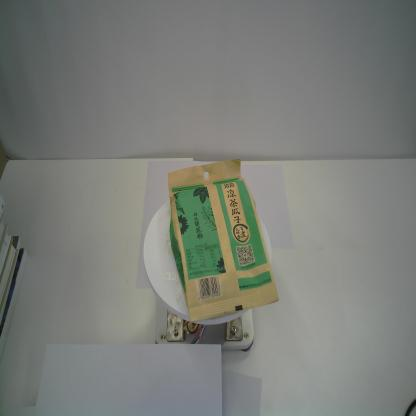Dried Food: (164, 155, 281, 325)
